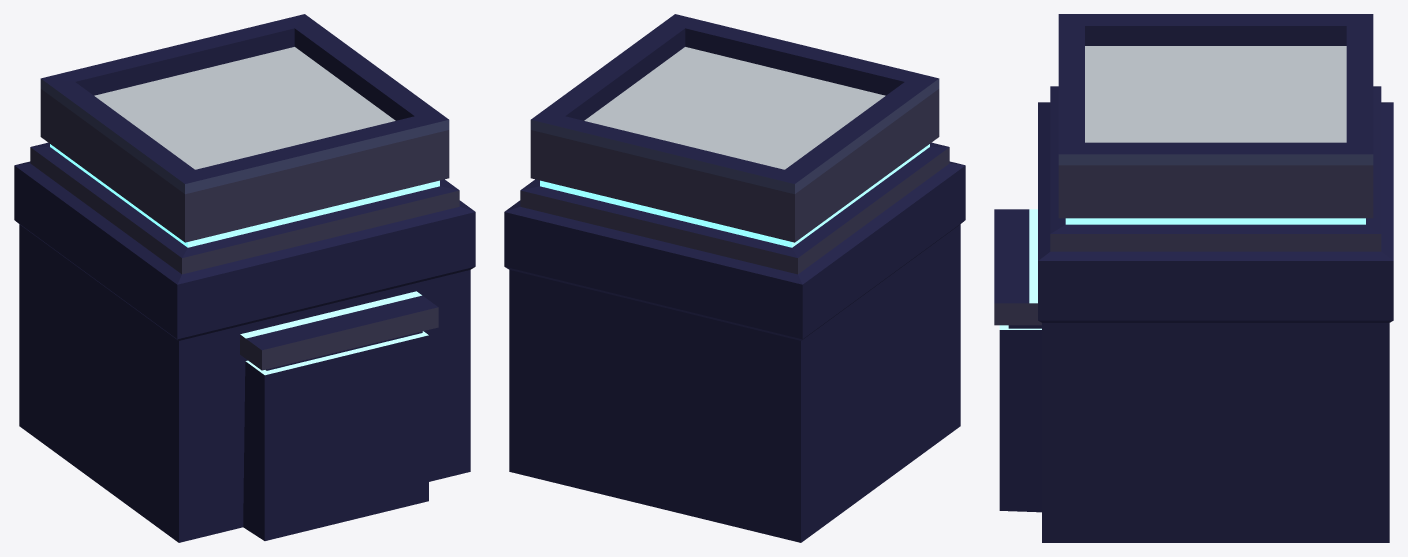
The model's file is Building 3_2.fbx.
The picture shows the model from 3 angles, left to right: view 1: azimuth 30°, elevation 25°; view 2: azimuth 150°, elevation 25°; view 3: azimuth 270°, elevation 25°; orthographic projection. The views are drawn at different scales.
Parts seen in each view (by area): view 1: _Building 3_2; view 2: _Building 3_2; view 3: _Building 3_2.
Boxes of the visible parts, x1=… form: _Building 3_2: x1=14, y1=14, x2=475, y2=542; _Building 3_2: x1=504, y1=14, x2=965, y2=542; _Building 3_2: x1=994, y1=14, x2=1393, y2=542.
Size of the model in its own units: 13.86 by 15.54 by 14.74.
